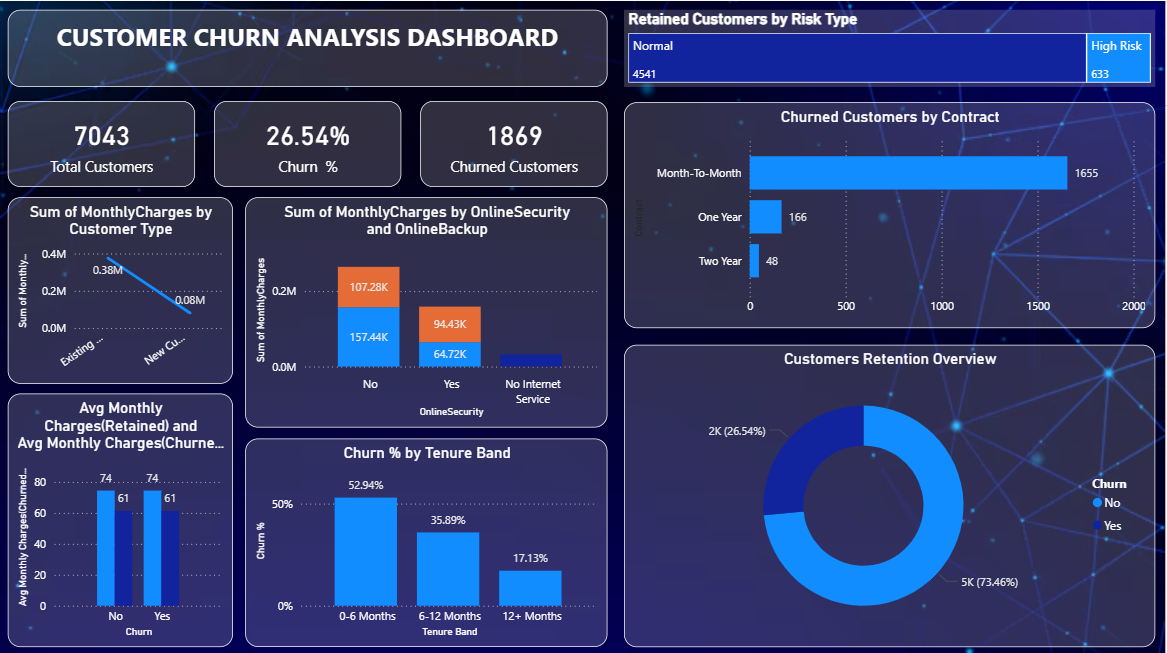

What the dashboard file says about the page in this screenshot:
{"tool":"powerbi","page":{"name":"Page 1","canvas":[1280,720],"ordinal":0},"visuals":[{"type":"textbox","box":[9.6,9.6,658.7,85.1],"z":0},{"type":"treemap","fields":{"Details":["telco_churn_unclean.Risk Type"],"Values":["Calculated Measure.Retained Customers"]},"box":[686.1,9.6,583.2,85.1],"z":1000},{"type":"card","fields":{"Values":["Calculated Measure.Total Customers"]},"box":[9.6,109.8,205.8,94.7],"z":2000},{"type":"card","fields":{"Values":["Calculated Measure.Churn  %"]},"box":[236,109.8,205.8,94.7],"z":3000},{"type":"card","fields":{"Values":["Calculated Measure.Churned Customers"]},"box":[462.4,109.8,205.8,94.7],"z":4000},{"type":"donutChart","title":" Customers Retention Overview","fields":{"Category":["telco_churn_unclean.Churn"],"Y":["Calculated Measure.Total Customers"]},"box":[686.1,377.4,583.2,332.1],"z":5000},{"type":"barChart","fields":{"Category":["telco_churn_unclean.Contract"],"Y":["Calculated Measure.Churned Customers"]},"box":[686.1,111.1,583.2,248.4],"z":5001},{"type":"columnChart","fields":{"Category":["telco_churn_unclean.OnlineSecurity"],"Series":["telco_churn_unclean.OnlineBackup"],"Y":["Sum(telco_churn_unclean.MonthlyCharges)"]},"box":[270.3,215.4,397.9,252.5],"z":5002},{"type":"columnChart","fields":{"Category":["telco_churn_unclean.Tenure Band"],"Y":["Calculated Measure.Churn  %"]},"box":[270.3,480.3,397.9,229.2],"z":5003},{"type":"clusteredColumnChart","title":"Avg Monthly Charges(Retained) and Avg Monthly Charges(Churned) by Churn","fields":{"Y":["Calculated Measure.Avg Monthly Charges(Churned)","Calculated Measure.Avg Monthly Charges(Retained)"],"Category":["telco_churn_unclean.Churn"]},"box":[9.6,430.9,247,278.6],"z":5004},{"type":"lineChart","fields":{"Y":["Sum(telco_churn_unclean.MonthlyCharges)"],"Category":["telco_churn_unclean.Customer Type"]},"box":[9.6,215.4,247,204.5],"z":5005}]}

Visuals, with their boxes in screenshot pixels (x1, y1, x2, y2), scaled from the page's 1280x720 canvas onto the 1167x653 screenshot:
textbox: <bbox>9, 9, 609, 86</bbox>
treemap - telco_churn_unclean.Risk Type x Calculated Measure.Retained Customers: <bbox>626, 9, 1157, 86</bbox>
card - Calculated Measure.Total Customers: <bbox>9, 100, 196, 185</bbox>
card - Calculated Measure.Churn  %: <bbox>215, 100, 403, 185</bbox>
card - Calculated Measure.Churned Customers: <bbox>422, 100, 609, 185</bbox>
" Customers Retention Overview" donutChart: <bbox>626, 342, 1157, 643</bbox>
barChart - telco_churn_unclean.Contract x Calculated Measure.Churned Customers: <bbox>626, 101, 1157, 326</bbox>
columnChart - telco_churn_unclean.OnlineSecurity x telco_churn_unclean.OnlineBackup: <bbox>246, 195, 609, 424</bbox>
columnChart - telco_churn_unclean.Tenure Band x Calculated Measure.Churn  %: <bbox>246, 436, 609, 643</bbox>
"Avg Monthly Charges(Retained) and Avg Monthly Charges(Churned) by Churn" clusteredColumnChart: <bbox>9, 391, 234, 643</bbox>
lineChart - Sum(telco_churn_unclean.MonthlyCharges) x telco_churn_unclean.Customer Type: <bbox>9, 195, 234, 381</bbox>
